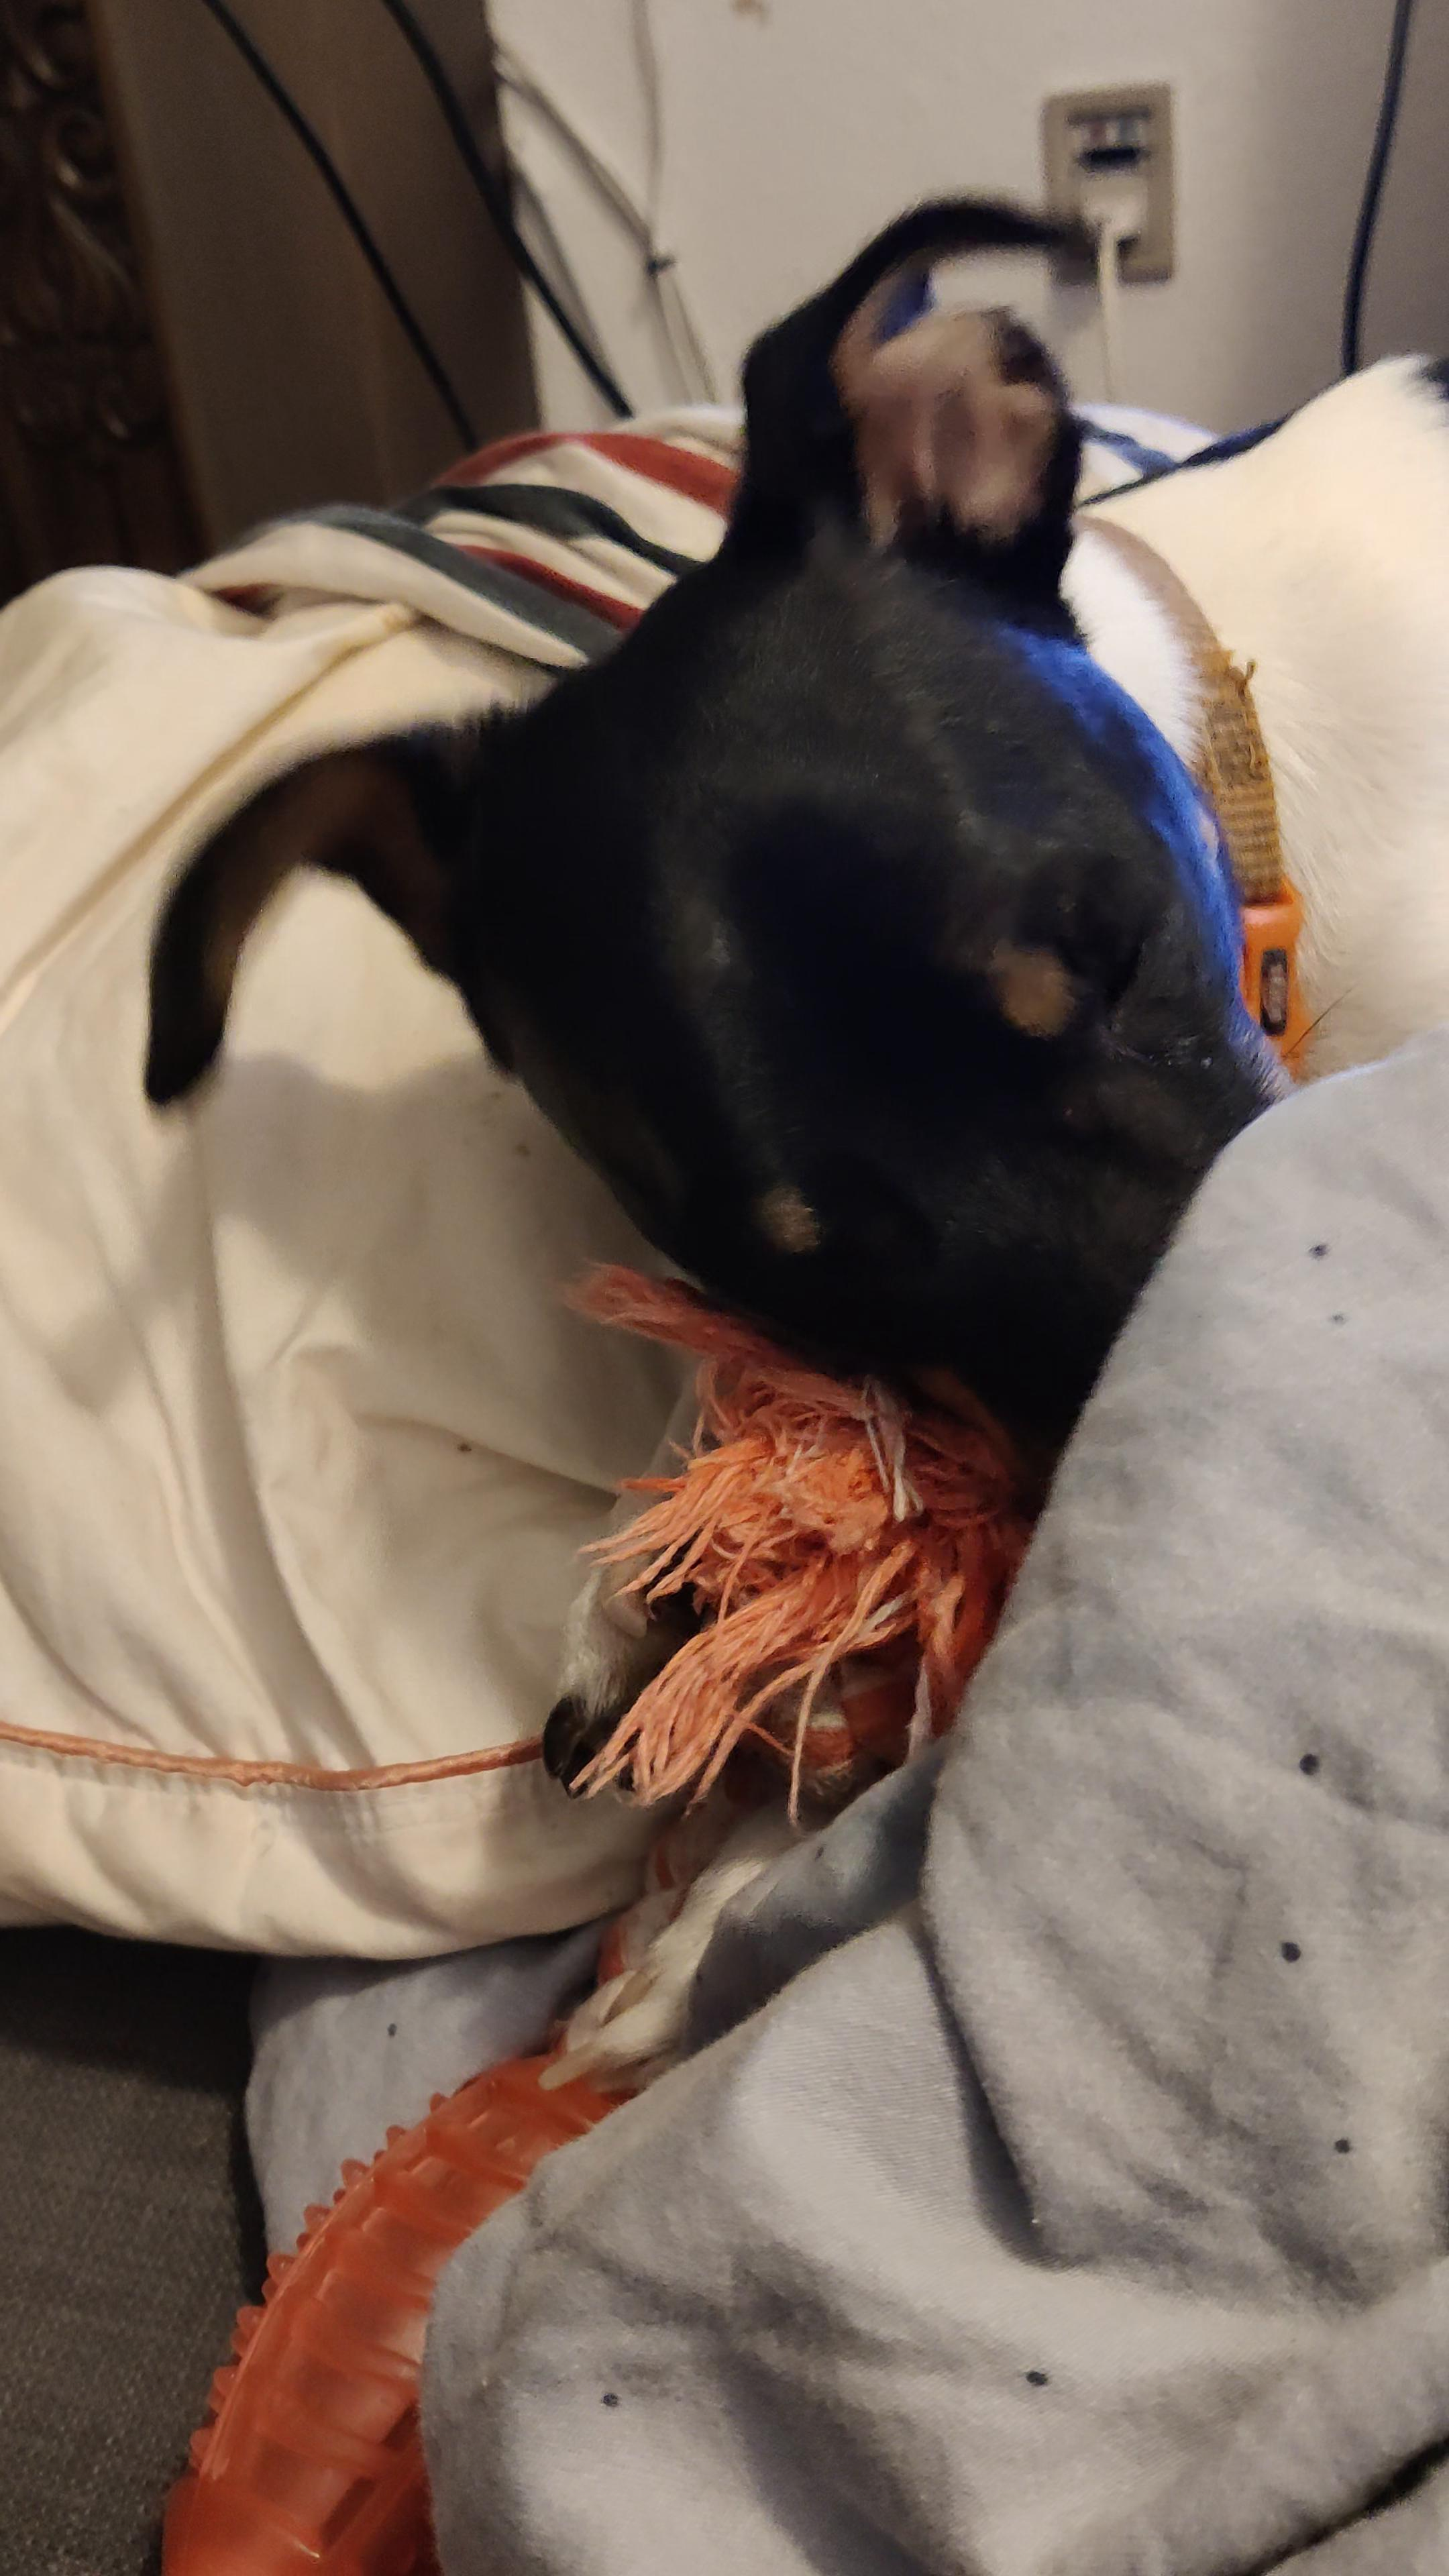Dog: (133, 172, 1449, 2091)
